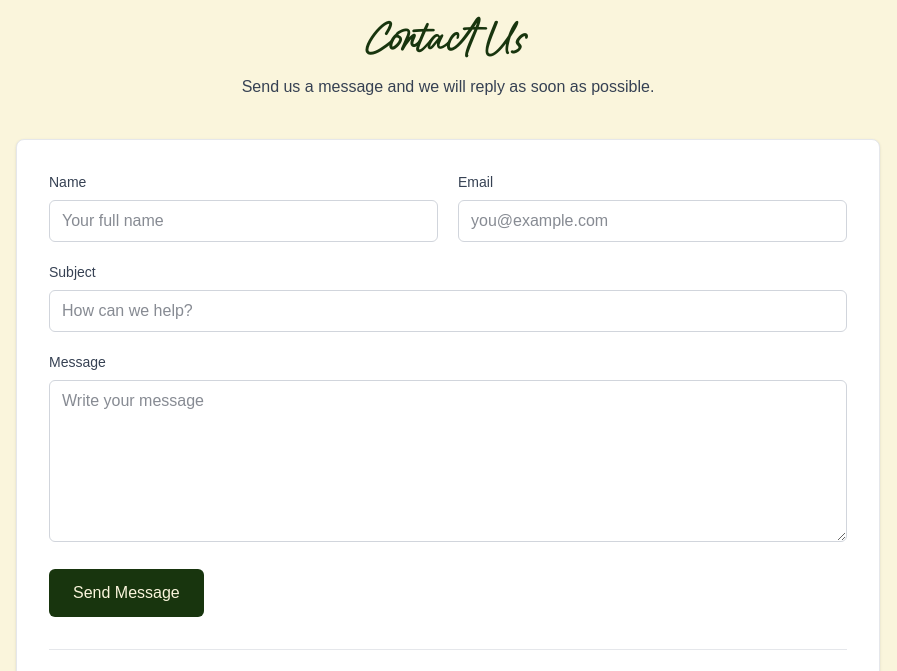
it: ContactView › shows success message on successful submission
The image size is (897, 671).
Type "Joe" into the field with placeholder "Your full name" at point(244, 221), box [49,200,438,242]
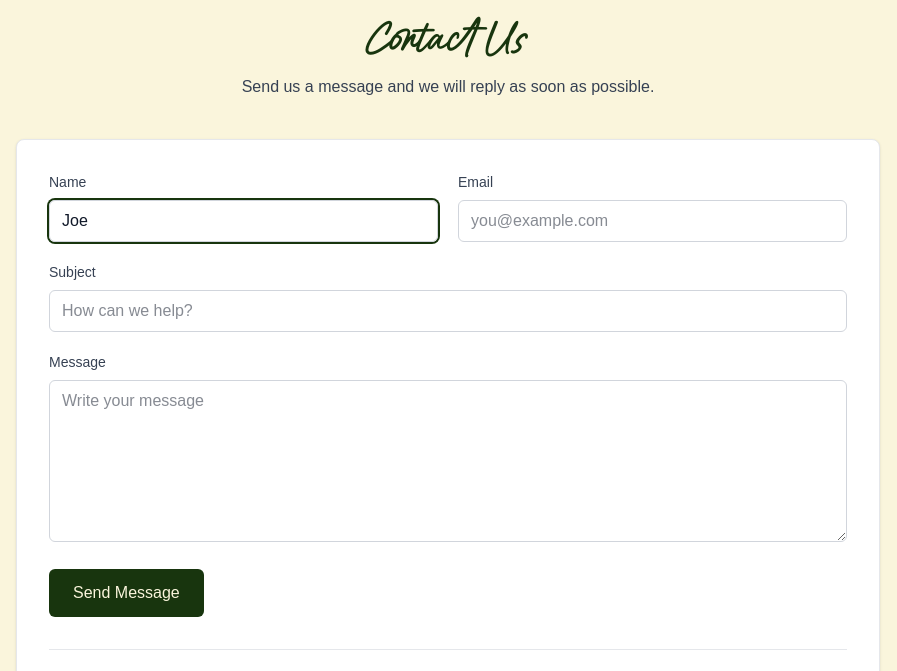
Type "joe@test.com" into the field with placeholder "you@example.com" at point(652, 221), box [458,200,847,242]
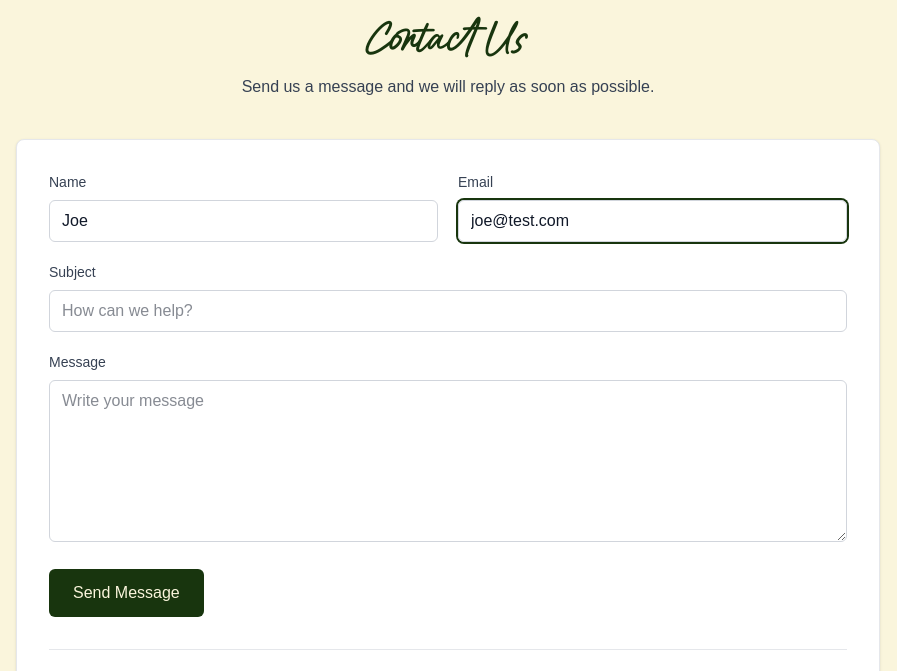
Type "Hello" into the field with placeholder "How can we help?" at point(448, 311), box [49,290,847,332]
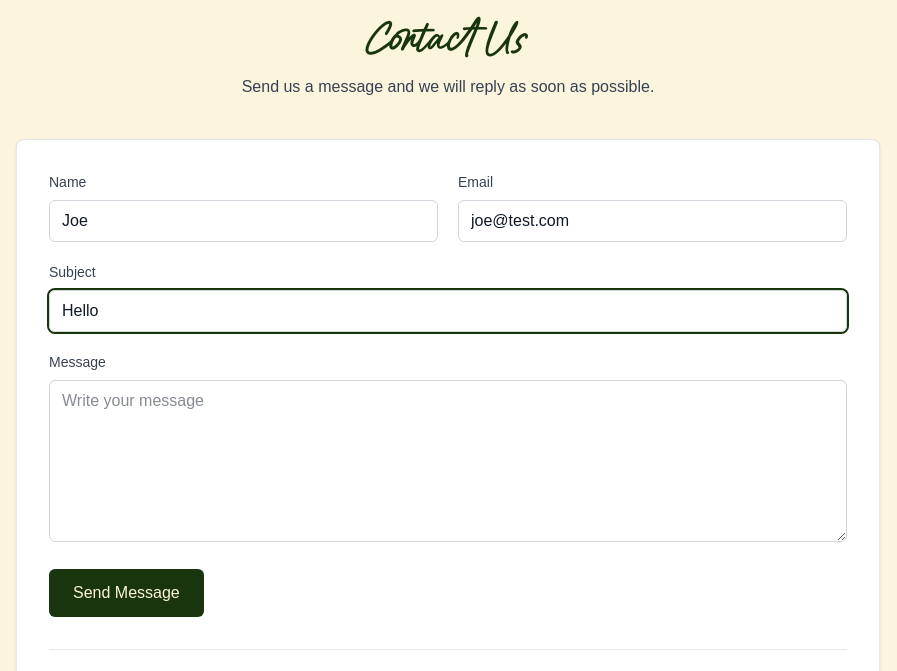
Type "Hi there" into the text box with placeholder "Write your message" at point(448, 461), box [49,380,847,542]
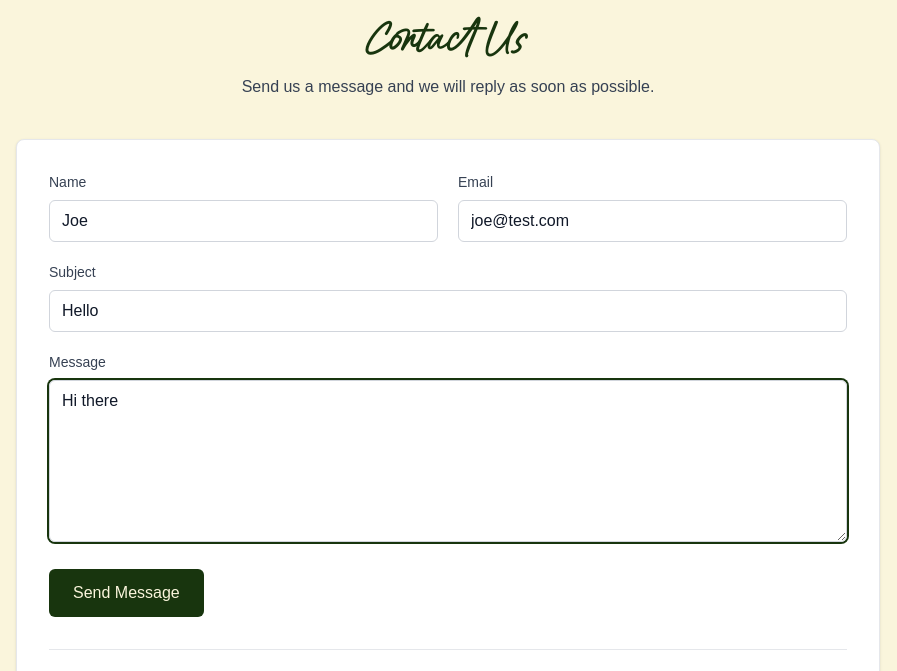
Click the button "Send Message" at point(126, 593), box [49,569,204,617]
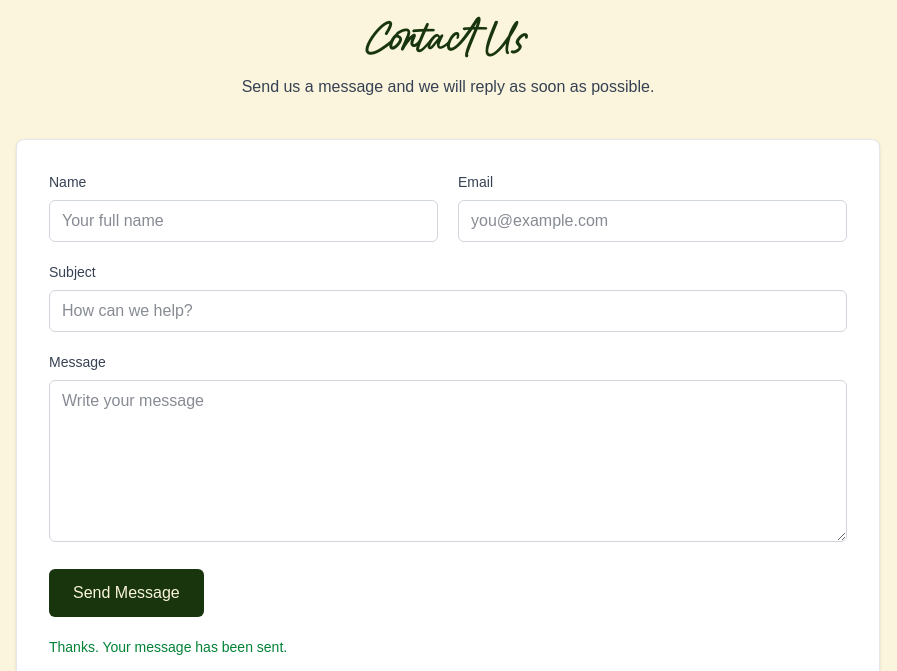
Expected: the text "Thanks. Your message has been sent." is shown, [49,639,287,655]
